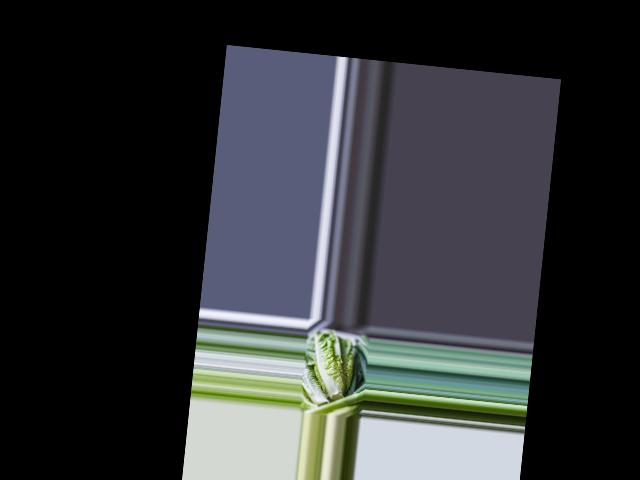lettuce: (307, 329, 357, 402)
